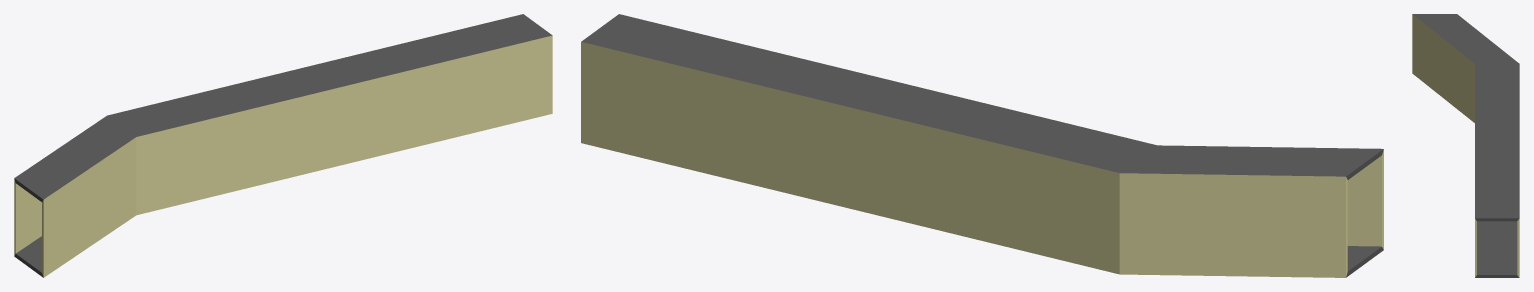
File: 6960_autosave.glb
The picture shows the model from 3 angles, left to right: view 1: azimuth 30°, elevation 25°; view 2: azimuth 150°, elevation 25°; view 3: azimuth 270°, elevation 25°; orthographic projection. The views are drawn at different scales.
Parts seen in each view (by area): view 1: Cube; view 2: Cube; view 3: Cube.
Boxes of the visible parts, x1,y1,x2,y2 form: Cube: [14, 14, 552, 277]; Cube: [581, 14, 1383, 277]; Cube: [1412, 14, 1519, 277].
Size of the model in its own units: 64.72 by 8.8 by 14.33.
